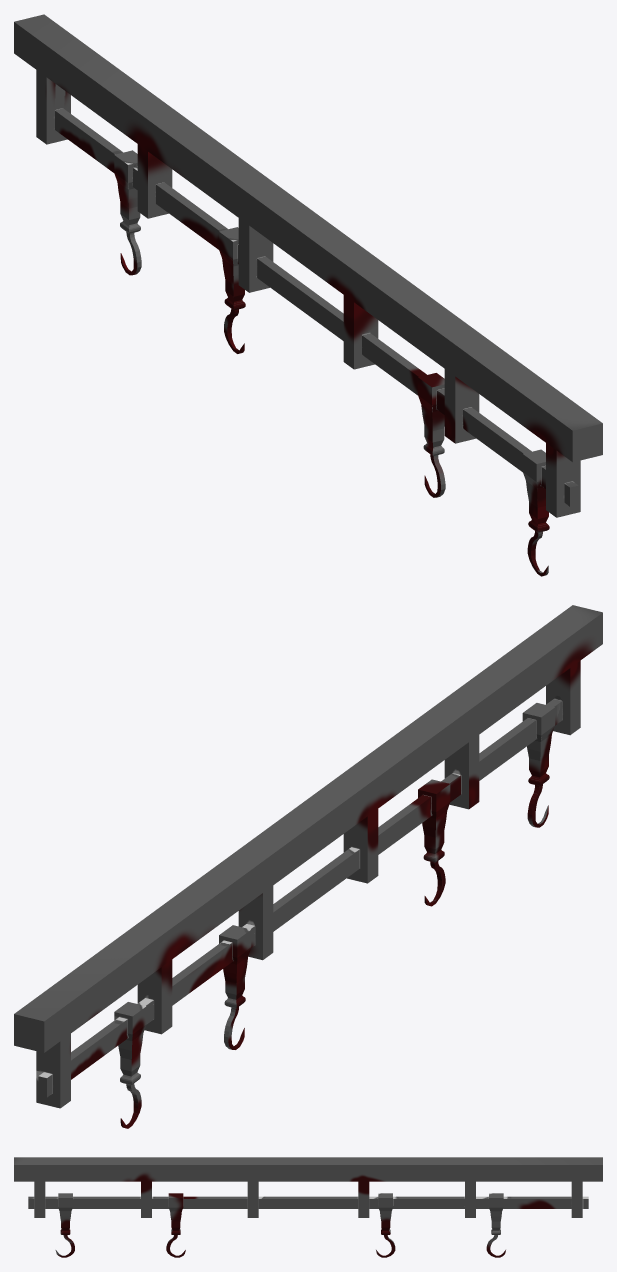
The model's file is Rafter.fbx.
3 renders of one model, top to bottom at view 1: azimuth 30°, elevation 25°; view 2: azimuth 150°, elevation 25°; view 3: azimuth 270°, elevation 25°, orthographic. The views are drawn at different scales.
Visible parts, largest first — view 1: Rafter; view 2: Rafter; view 3: Rafter.
Part boxes in pixels (x1,y1,x2,y2): Rafter: (14, 14, 602, 576); Rafter: (14, 605, 602, 1128); Rafter: (14, 1157, 602, 1257).
Size of the model in its own units: 50 by 288 by 1600.
Materials: 1 (1 with a texture image).
